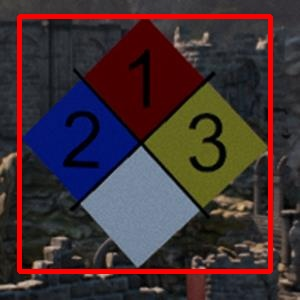nfpa: (19, 16, 270, 271)
